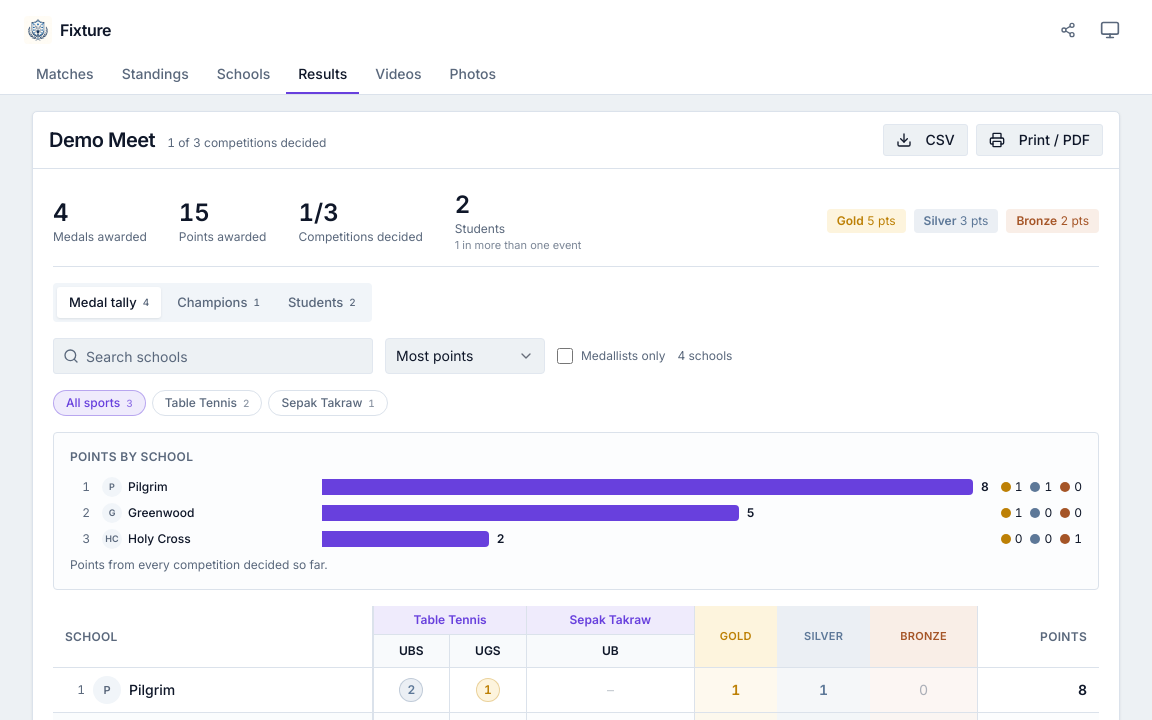
Test: PublicResultsPage › rescopes every total when one sport is filtered
The width and height of the screenshot is (1152, 720).
Click the tab with test id "results-sport-sepak_takraw": (328, 403) [268,390,388,416]
(page scrolled)
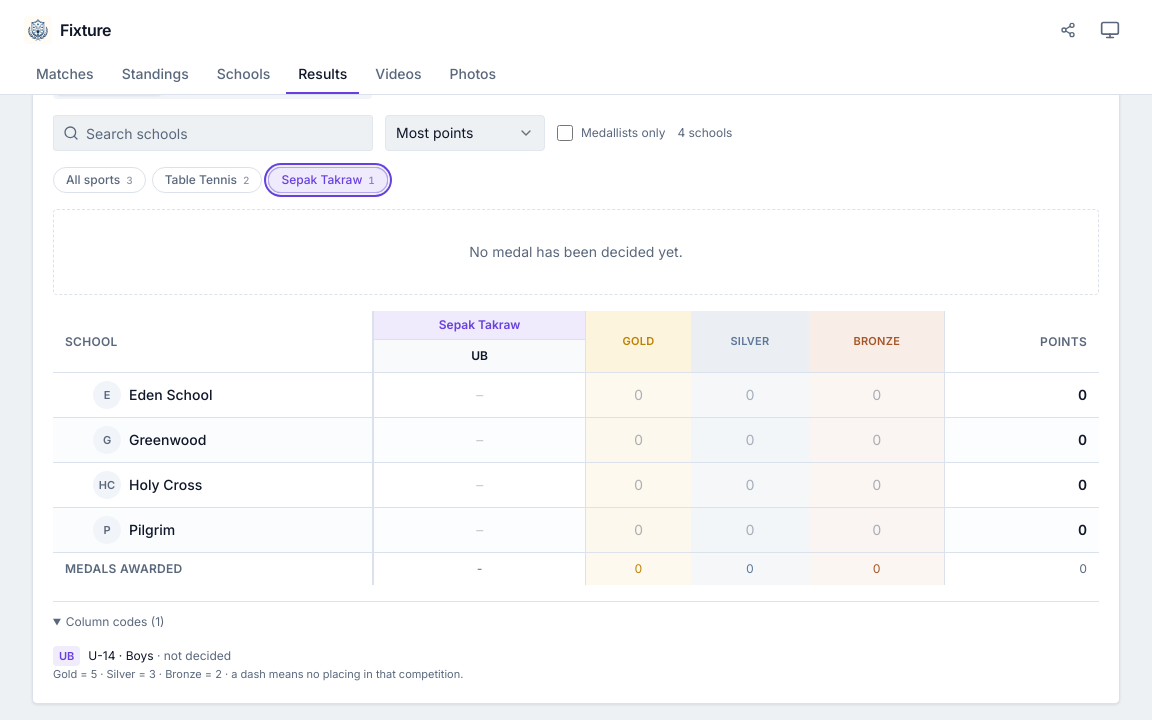
Now the element with test id "medal-1" is gone
